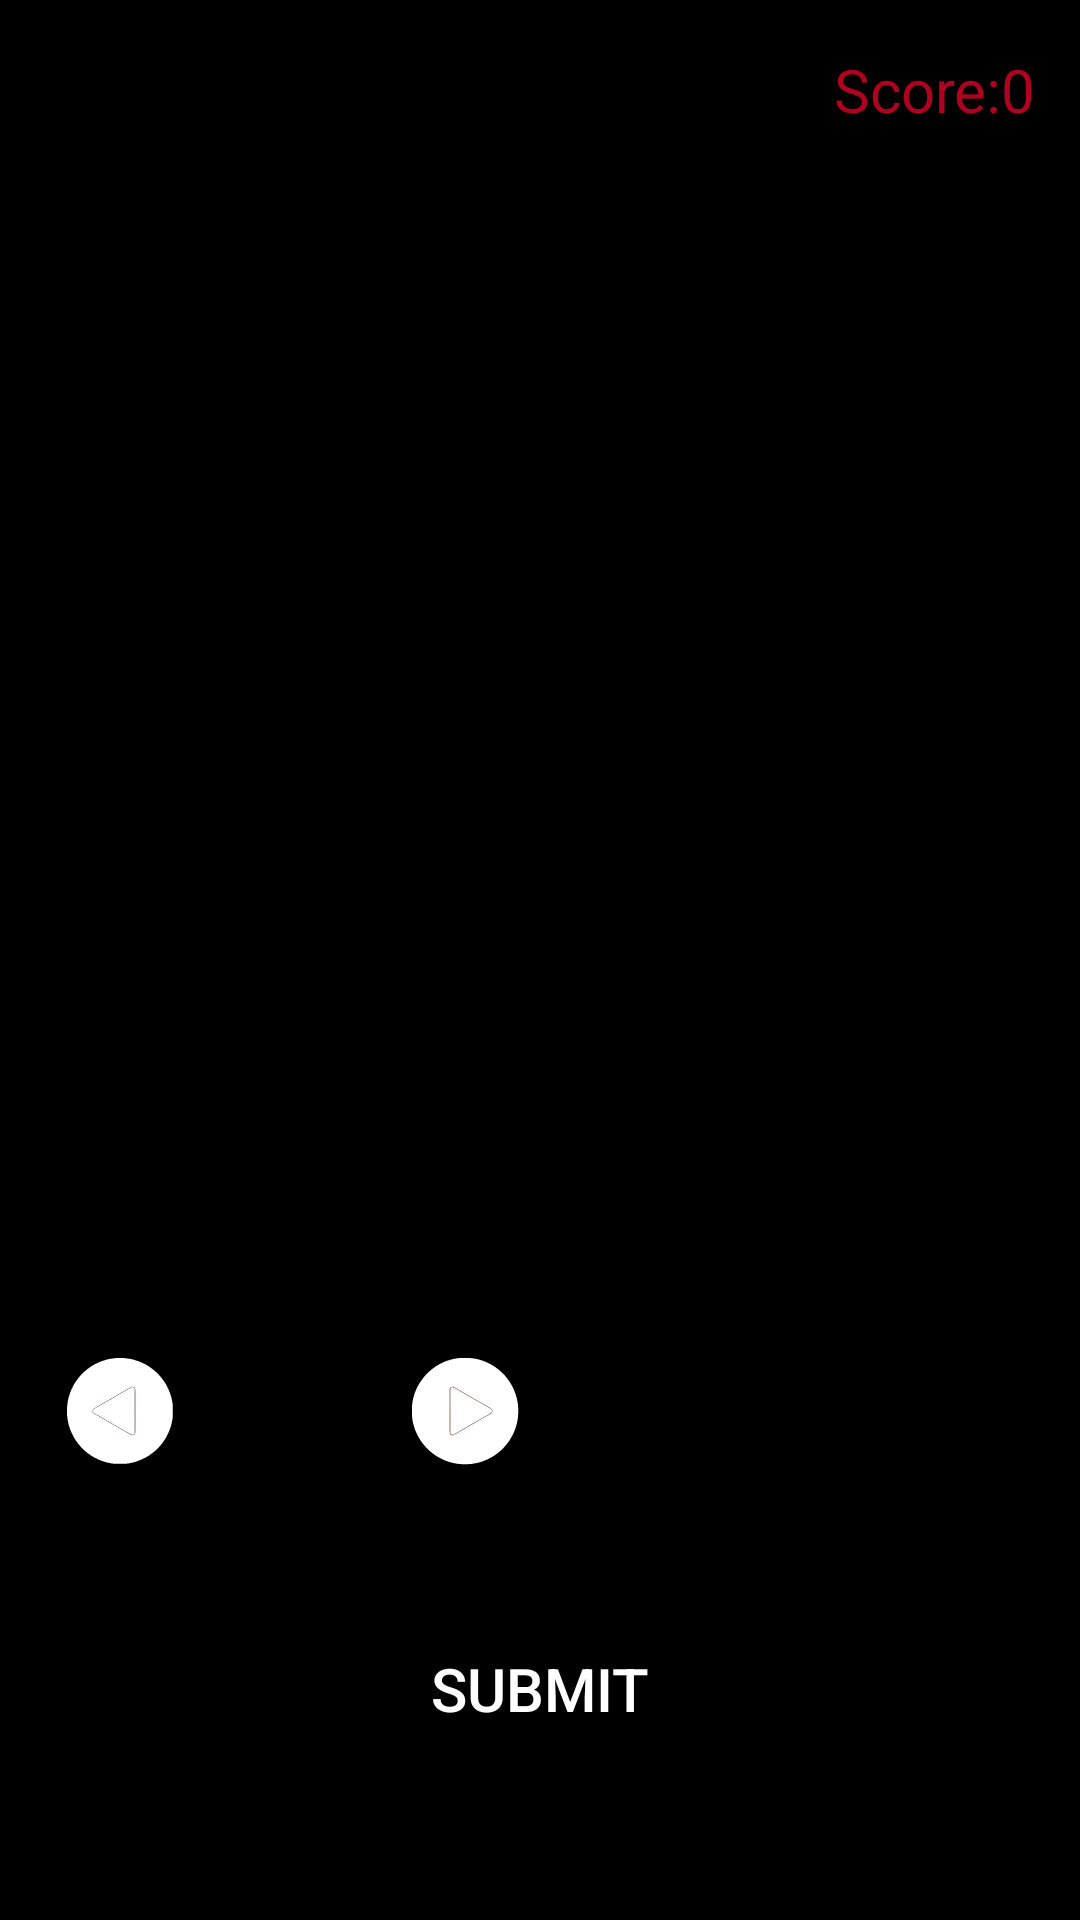

Icon click points for this 1080x1920 phone screenshot, format [x,y]:
left: [120,1411]
right: [465,1411]
